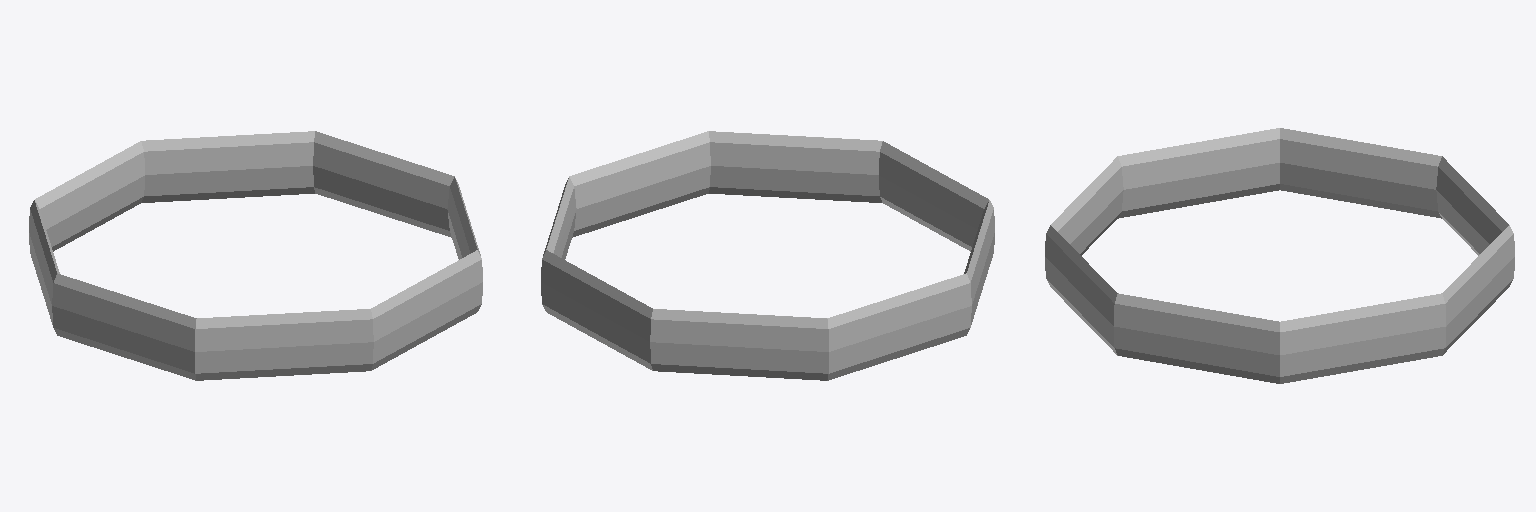
File: octahedron_smoothed_70.obj
3 views of the same model, side by side, from view 1: azimuth 30°, elevation 25°; view 2: azimuth 150°, elevation 25°; view 3: azimuth 270°, elevation 25° (orthographic).
Size of the model in its own units: 1.16 by 0.1703 by 1.16.